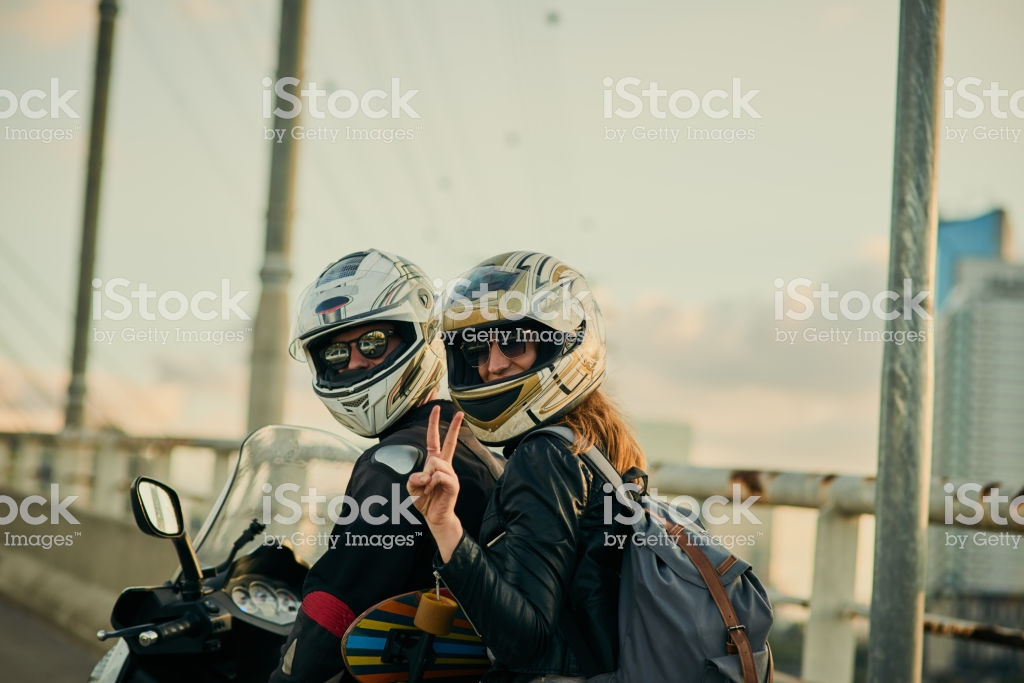helmet: (441, 251, 609, 424), (281, 262, 445, 428)
